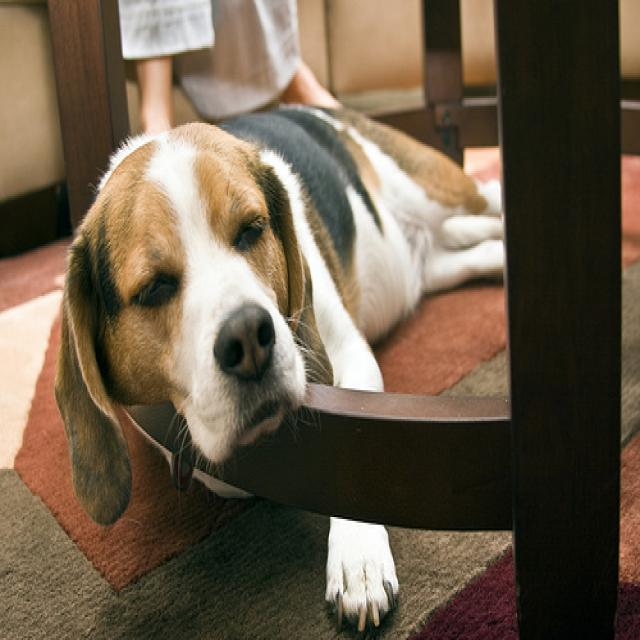dog-beagle: (40, 94, 508, 534)
